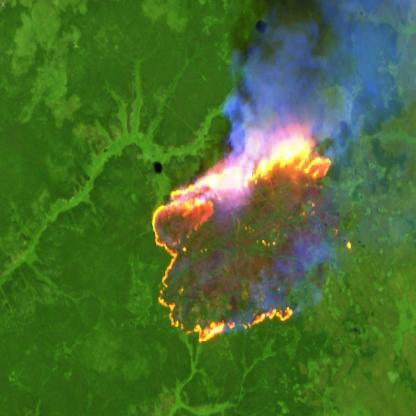fire: (148, 115, 355, 349)
